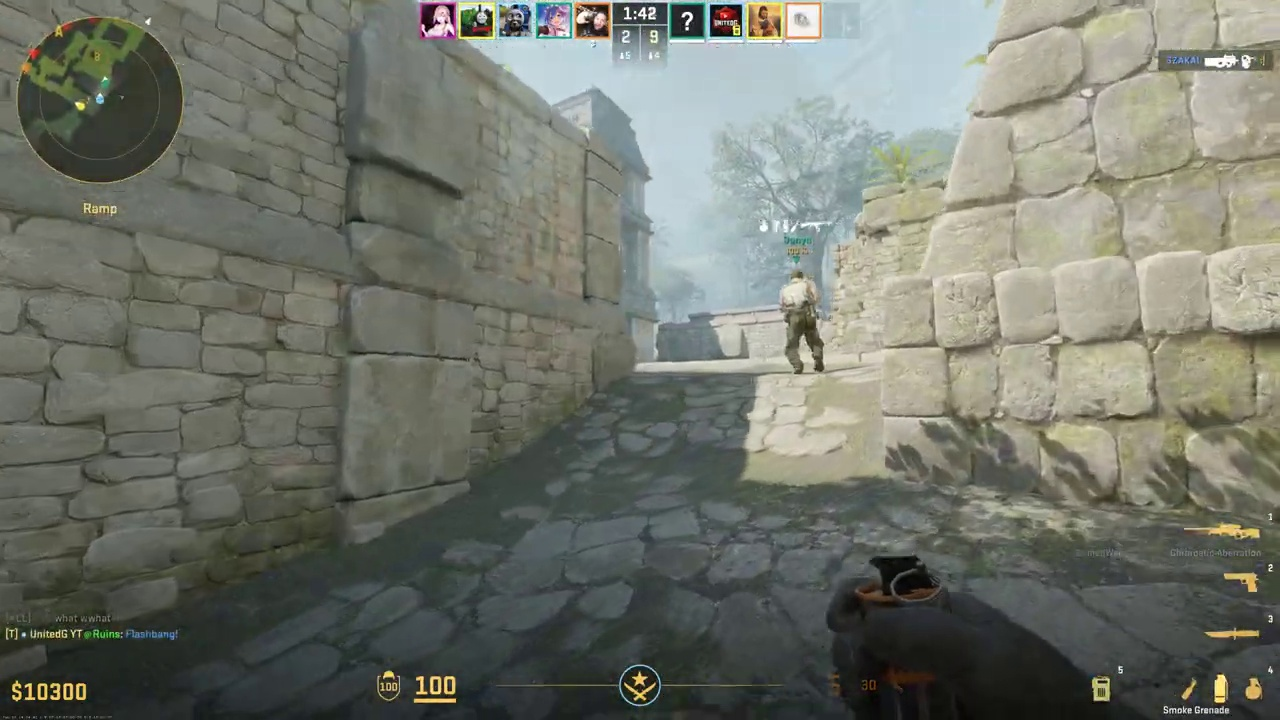Terrorist: (780, 270, 824, 374)
